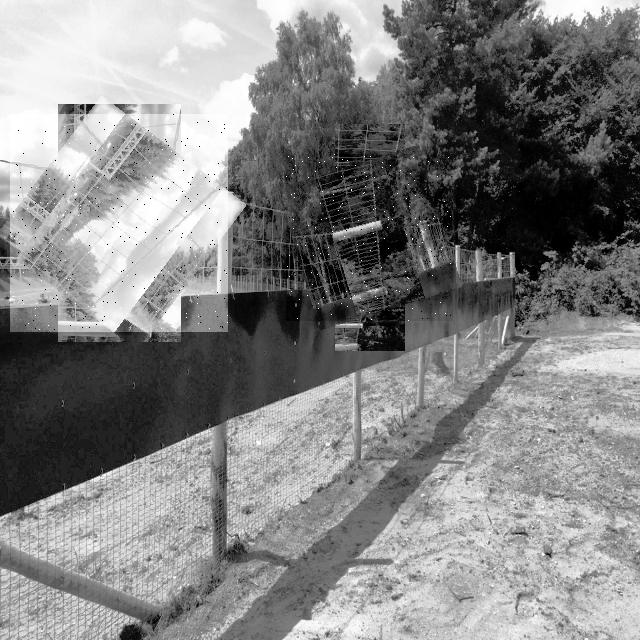fences: (10, 114, 228, 332), (286, 154, 453, 321)
